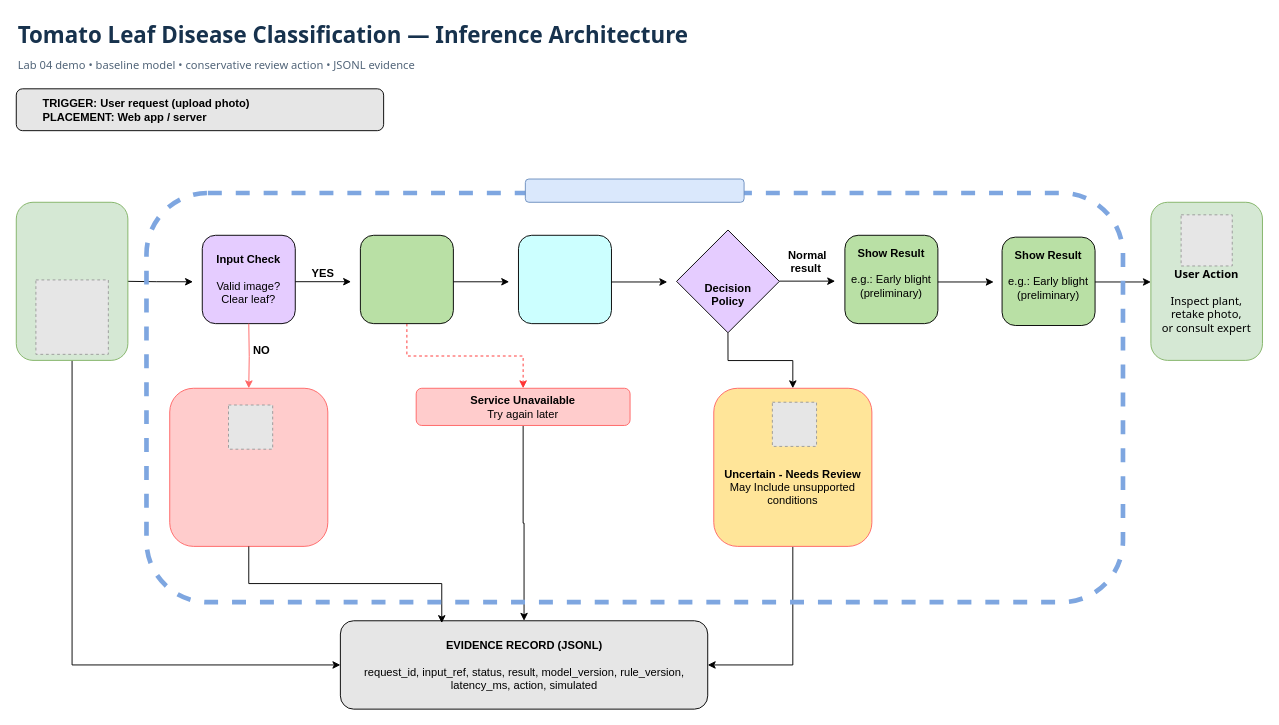
Some shapes in this 1279 by 725 pixel diagram are drawn without their labels. Grey dashed boxes stand in for pictures. Each missing label, with the box of its shape:
Baseline model StandardScaler + LogisticRegression: (518, 234, 611, 324)
Inference Boundary: (524, 178, 744, 202)
Input Source Tomato leaf photo (RGB): (15, 201, 128, 360)
Invalid Input Show guidance: submit a clearer leaf photo: (169, 387, 328, 546)
Preprocessing Resize to 64х64, 48 RGB histogram features: (359, 234, 453, 324)
